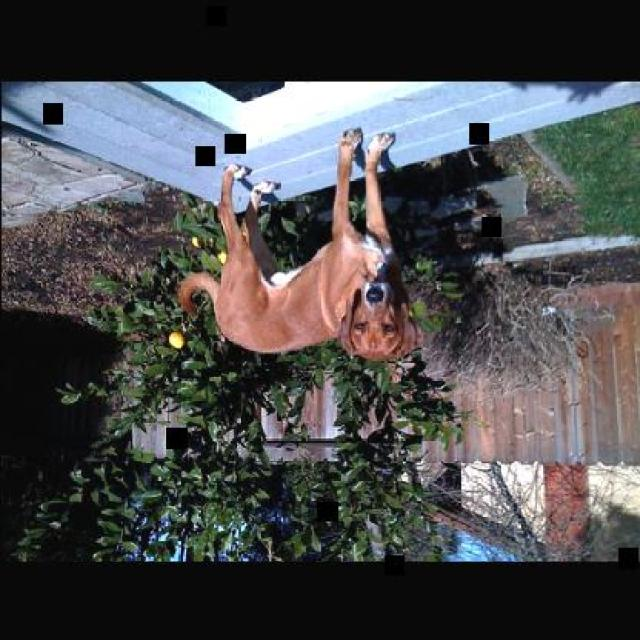unauthorized: (176, 125, 422, 362)
